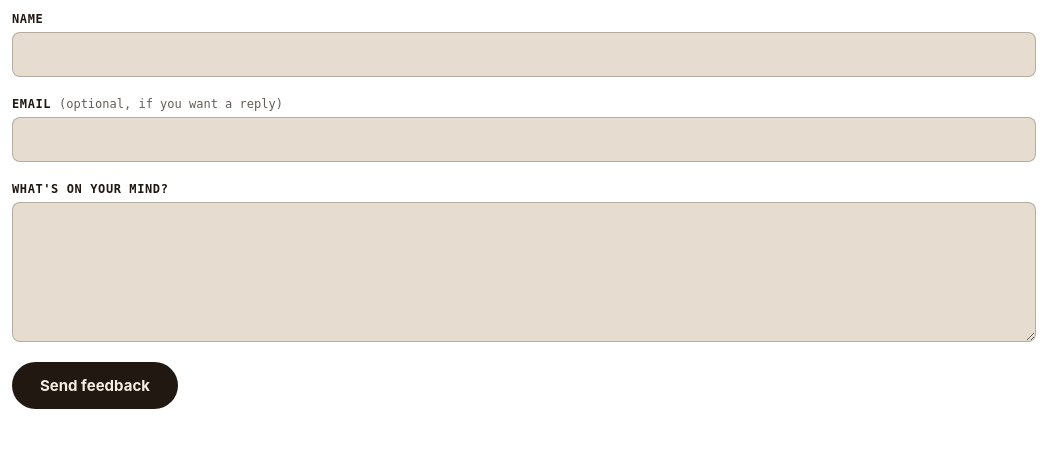
Test: FeedbackForm › shows the server's error message when submission fails
Type "x" into the text box labelled "What's on your mind?".
click(524, 272); type("x")  # box x1=12 y1=202 x2=1036 y2=342
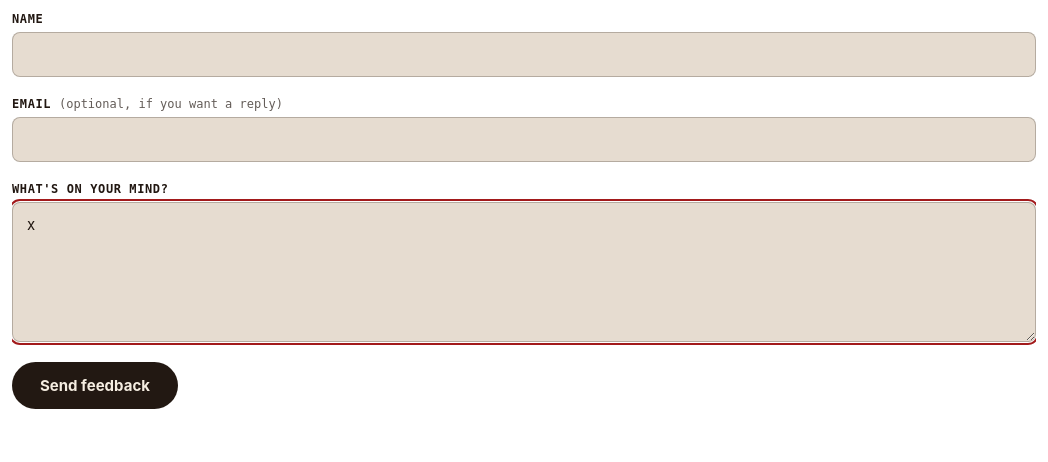
Click the button "Send feedback".
click(95, 386)  # box x1=12 y1=362 x2=178 y2=409
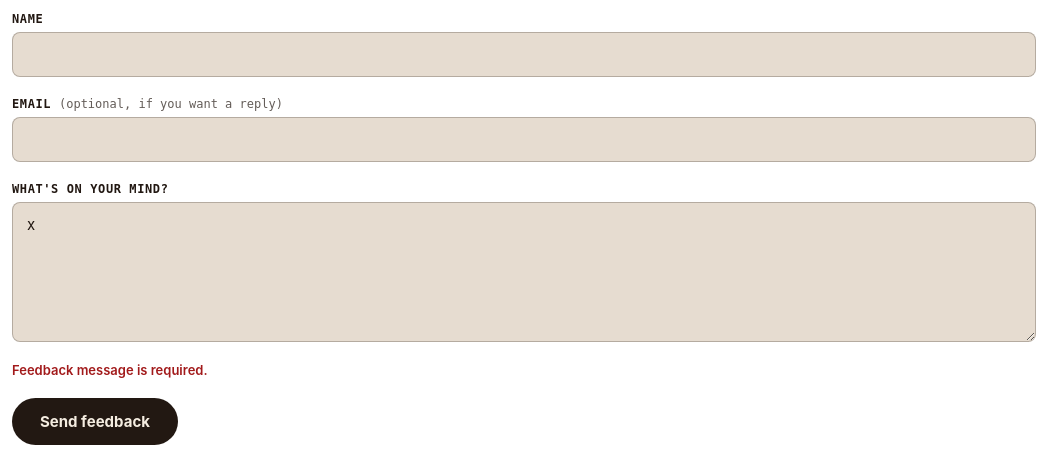
Now the message reads "Feedback message is required.", box x1=12 y1=362 x2=208 y2=378
